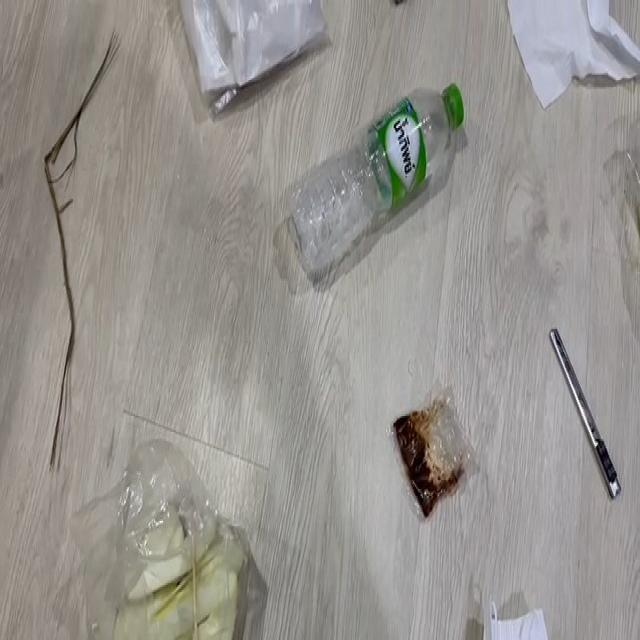Anorganik: (286, 64, 484, 264), (544, 307, 640, 487), (516, 0, 639, 98), (189, 0, 318, 70)
B3: (35, 17, 119, 471), (110, 485, 255, 634), (391, 376, 493, 509), (453, 587, 589, 640)
